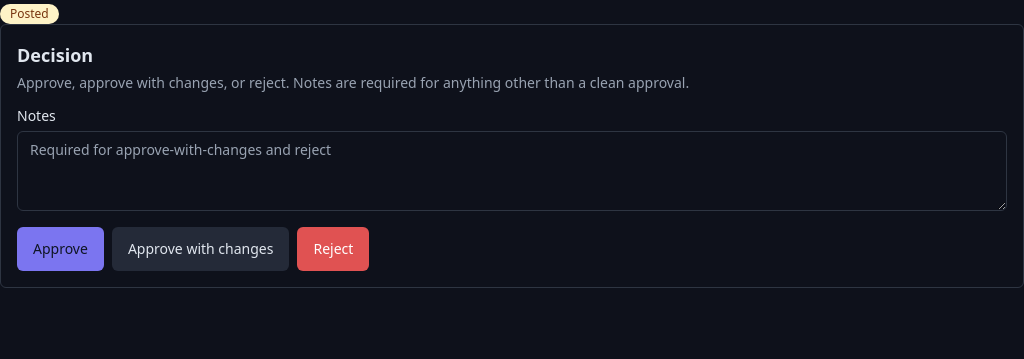
Test case: LaunchApprovalGate › reverts the optimistic pill when the decision POST fails
Click the button "Approve".
click(60, 249)  # box [17,227,104,271]
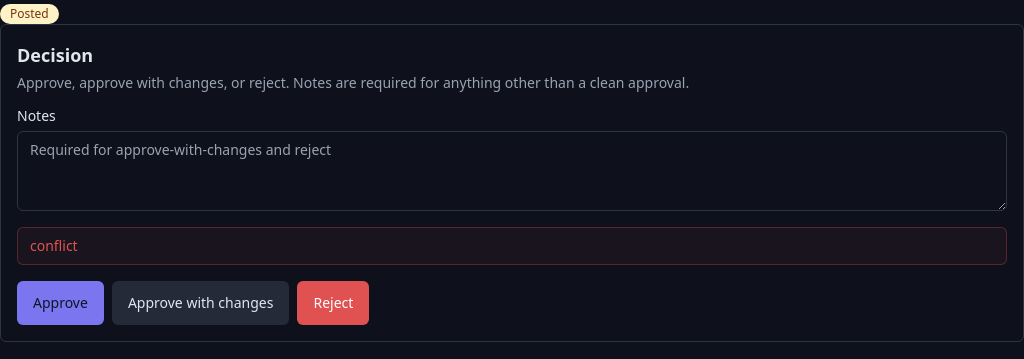
Expected: the text "Posted" is shown, [0,4,59,24]
Expected: the text "conflict" is shown, [17,227,1007,265]
